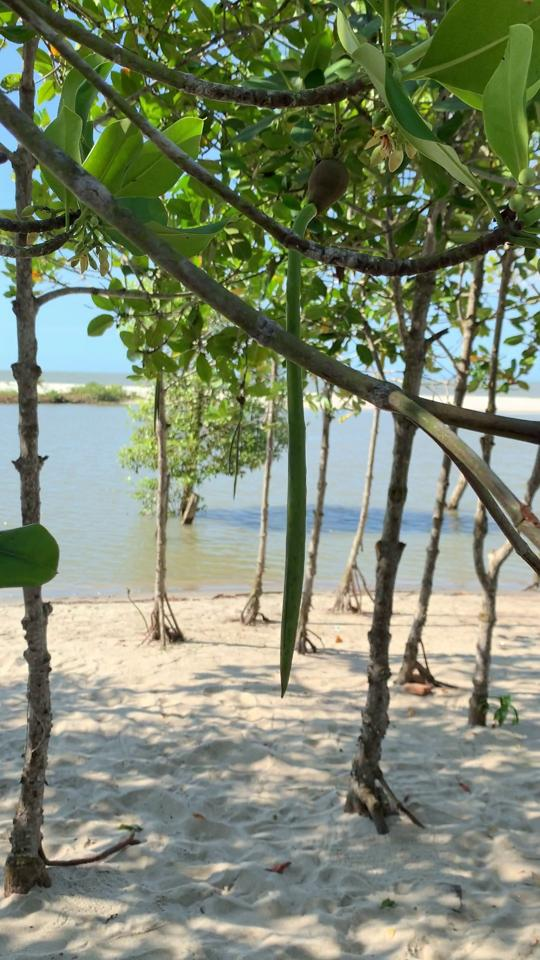setengah matang: (264, 132, 364, 710)
